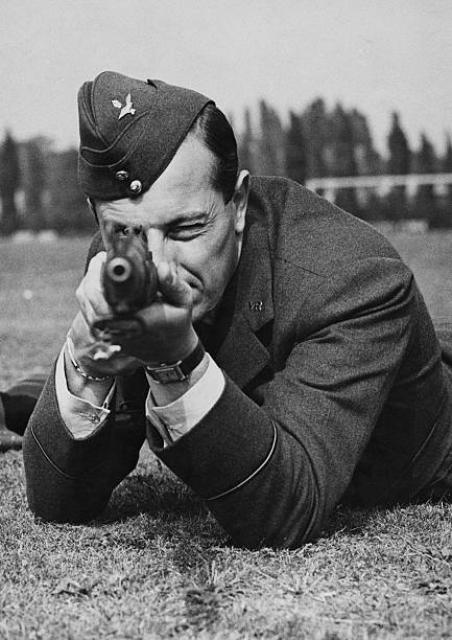other: (21, 69, 450, 520)
